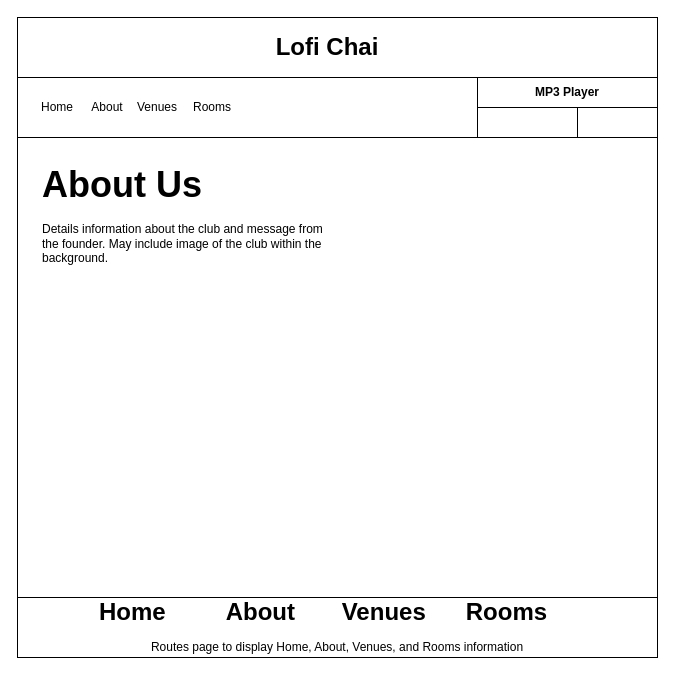
The diagram is 675 pixels wide and 675 high, and some of its shapes have lost their labels. The centre of each missing label's shape, as x and y in pixels:
Skip/Pause/Play: pixel 527 122
Volume Slider: pixel 617 122
